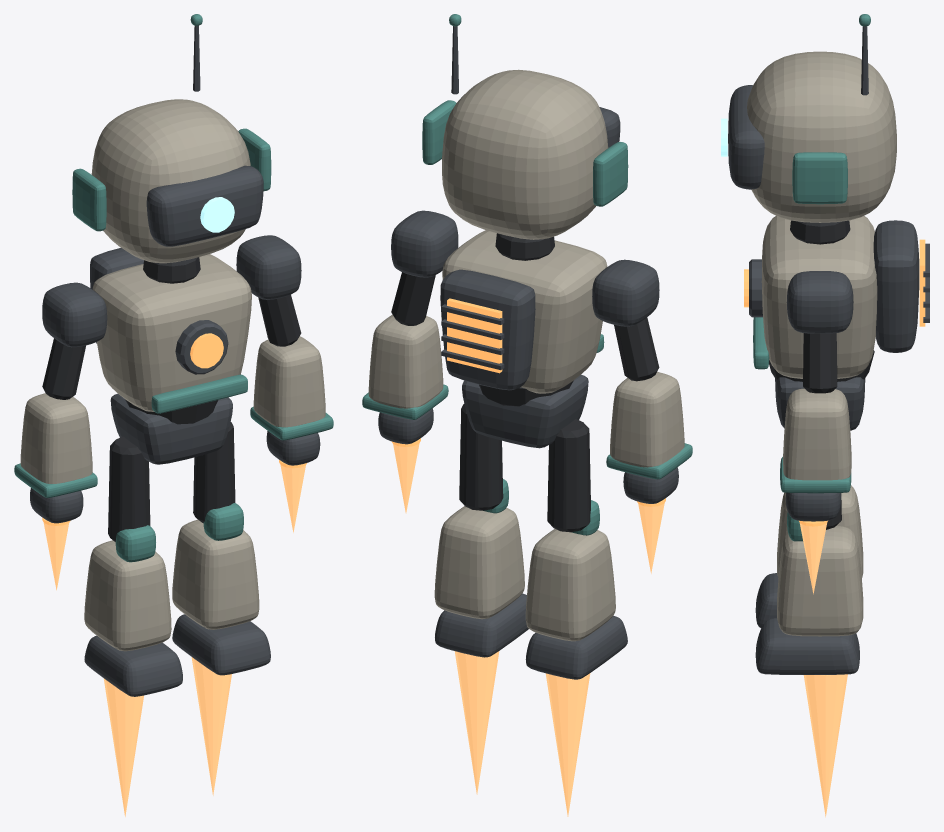
Rendered from robo_v1.glb.
3 renders of one model, left to right at view 1: azimuth 30°, elevation 25°; view 2: azimuth 150°, elevation 25°; view 3: azimuth 270°, elevation 25°, orthographic. The views are drawn at different scales.
Visible parts, largest first — view 1: tronco_p, cabeca_p, bota.001, bota, visor, antebraco.001, antebraco, pelve, pe, pe.001, coxa.001, ombro_p.001 (+23 smaller); view 2: cabeca_p, tronco_p, bota.001, bota, mochila, antebraco.001, antebraco, pelve, coxa.001, pe.001, ombro_p.001, ombro_p (+17 smaller); view 3: cabeca_p, tronco_p, bota, antebraco, mochila, pe, ombro_p, chama_pe, orelha_e, visor, braco, pelve (+10 smaller).
Part boxes in pixels (x1,y1,x2,y2): tronco_p: (92,254,251,411); cabeca_p: (91,99,250,263); bota.001: (84,540,171,651); bota: (172,519,259,629); visor: (146,165,263,246); antebraco.001: (20,393,92,483); antebraco: (253,336,325,427); pelve: (110,393,232,464); pe: (172,614,270,675); pe.001: (84,635,182,696); coxa.001: (108,436,150,541); ombro_p.001: (42,282,107,347); cabeca_p: (442,69,608,239); tronco_p: (442,230,607,393); bota.001: (525,529,615,641); bota: (434,506,524,619); mochila: (440,269,535,390); antebraco.001: (610,371,684,467); antebraco: (368,314,443,408); pelve: (462,374,588,448); coxa.001: (547,419,590,532); pe.001: (525,615,627,679); ombro_p.001: (592,259,659,326); ombro_p: (391,210,458,277); cabeca_p: (747,51,896,222); tronco_p: (761,216,877,378); bota: (777,525,863,636); antebraco: (783,388,851,480); mochila: (873,220,919,352); pe: (755,618,859,674); ombro_p: (786,271,853,333); chama_pe: (803,674,847,817); orelha_e: (792,152,847,204); visor: (728,85,764,189); braco: (803,333,837,393); pelve: (775,377,865,430).
Bounding box in the file's own units: 0.6275 × 1.59 × 0.373.
